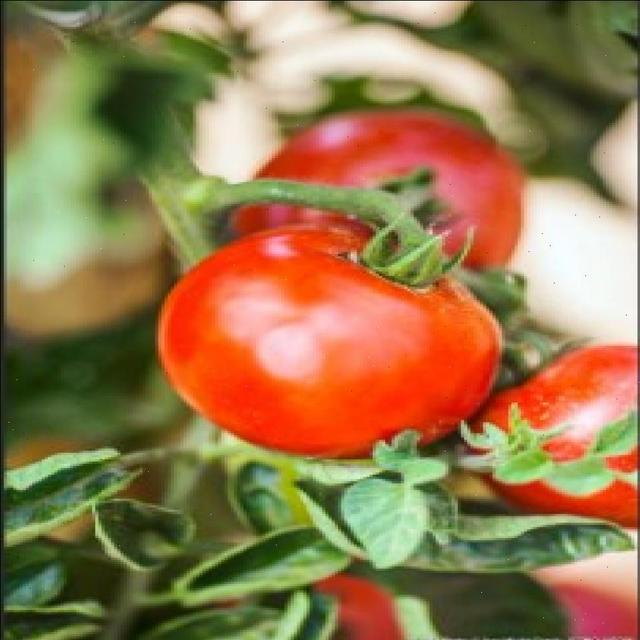Healthy Fruit: (116, 102, 366, 282)
